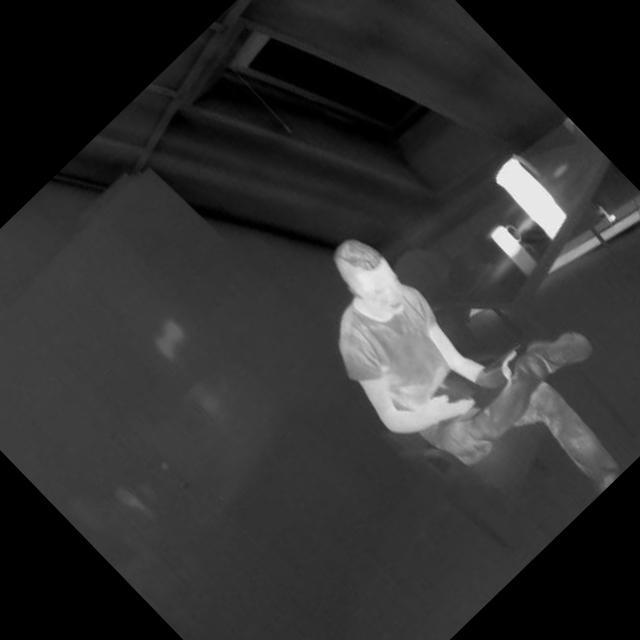person: (264, 156, 640, 569)
